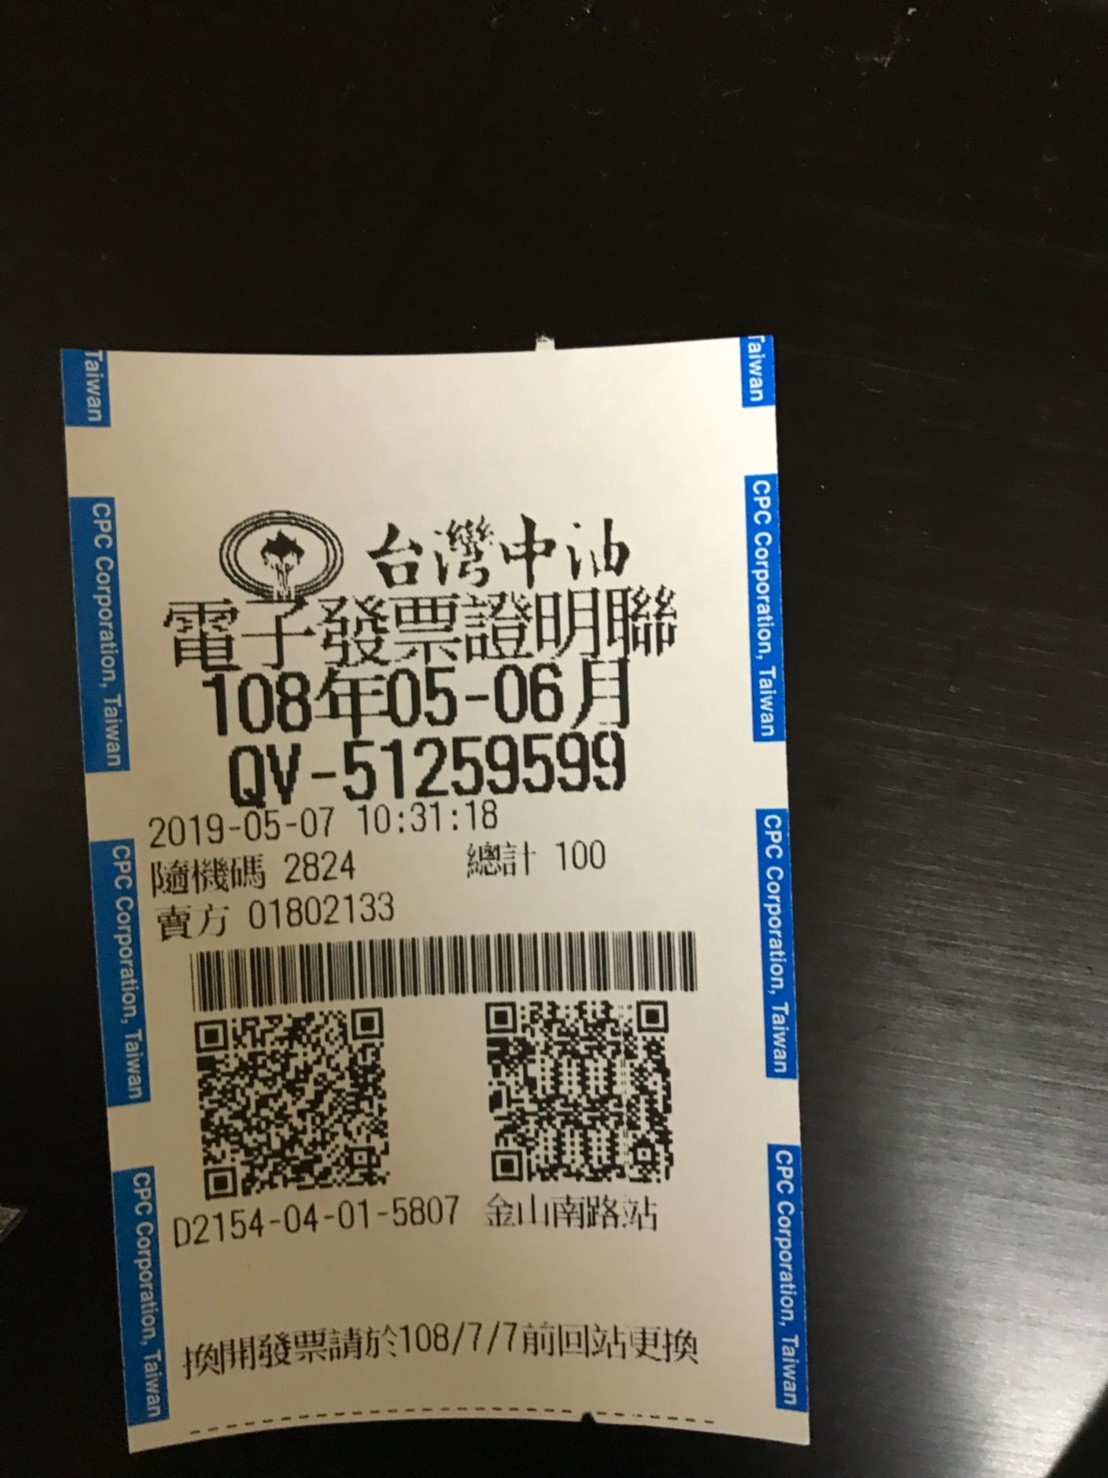Date_New: (201, 655, 632, 736)
Number_New: (342, 731, 631, 800)
